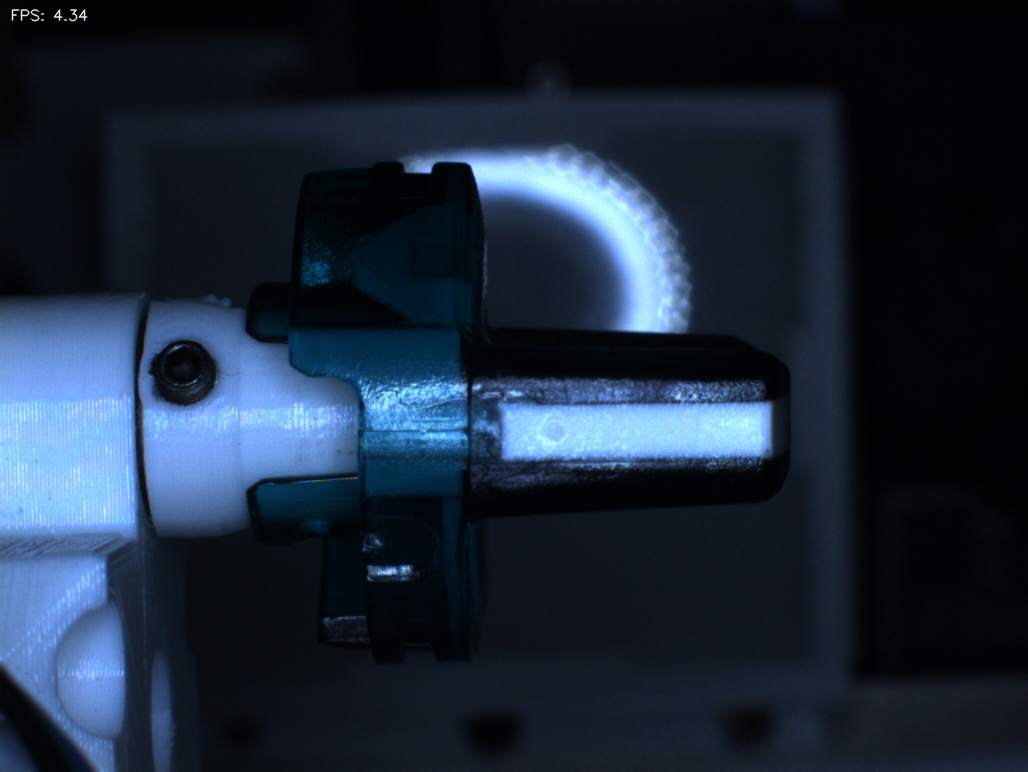DentOk: (330, 213, 395, 306)
